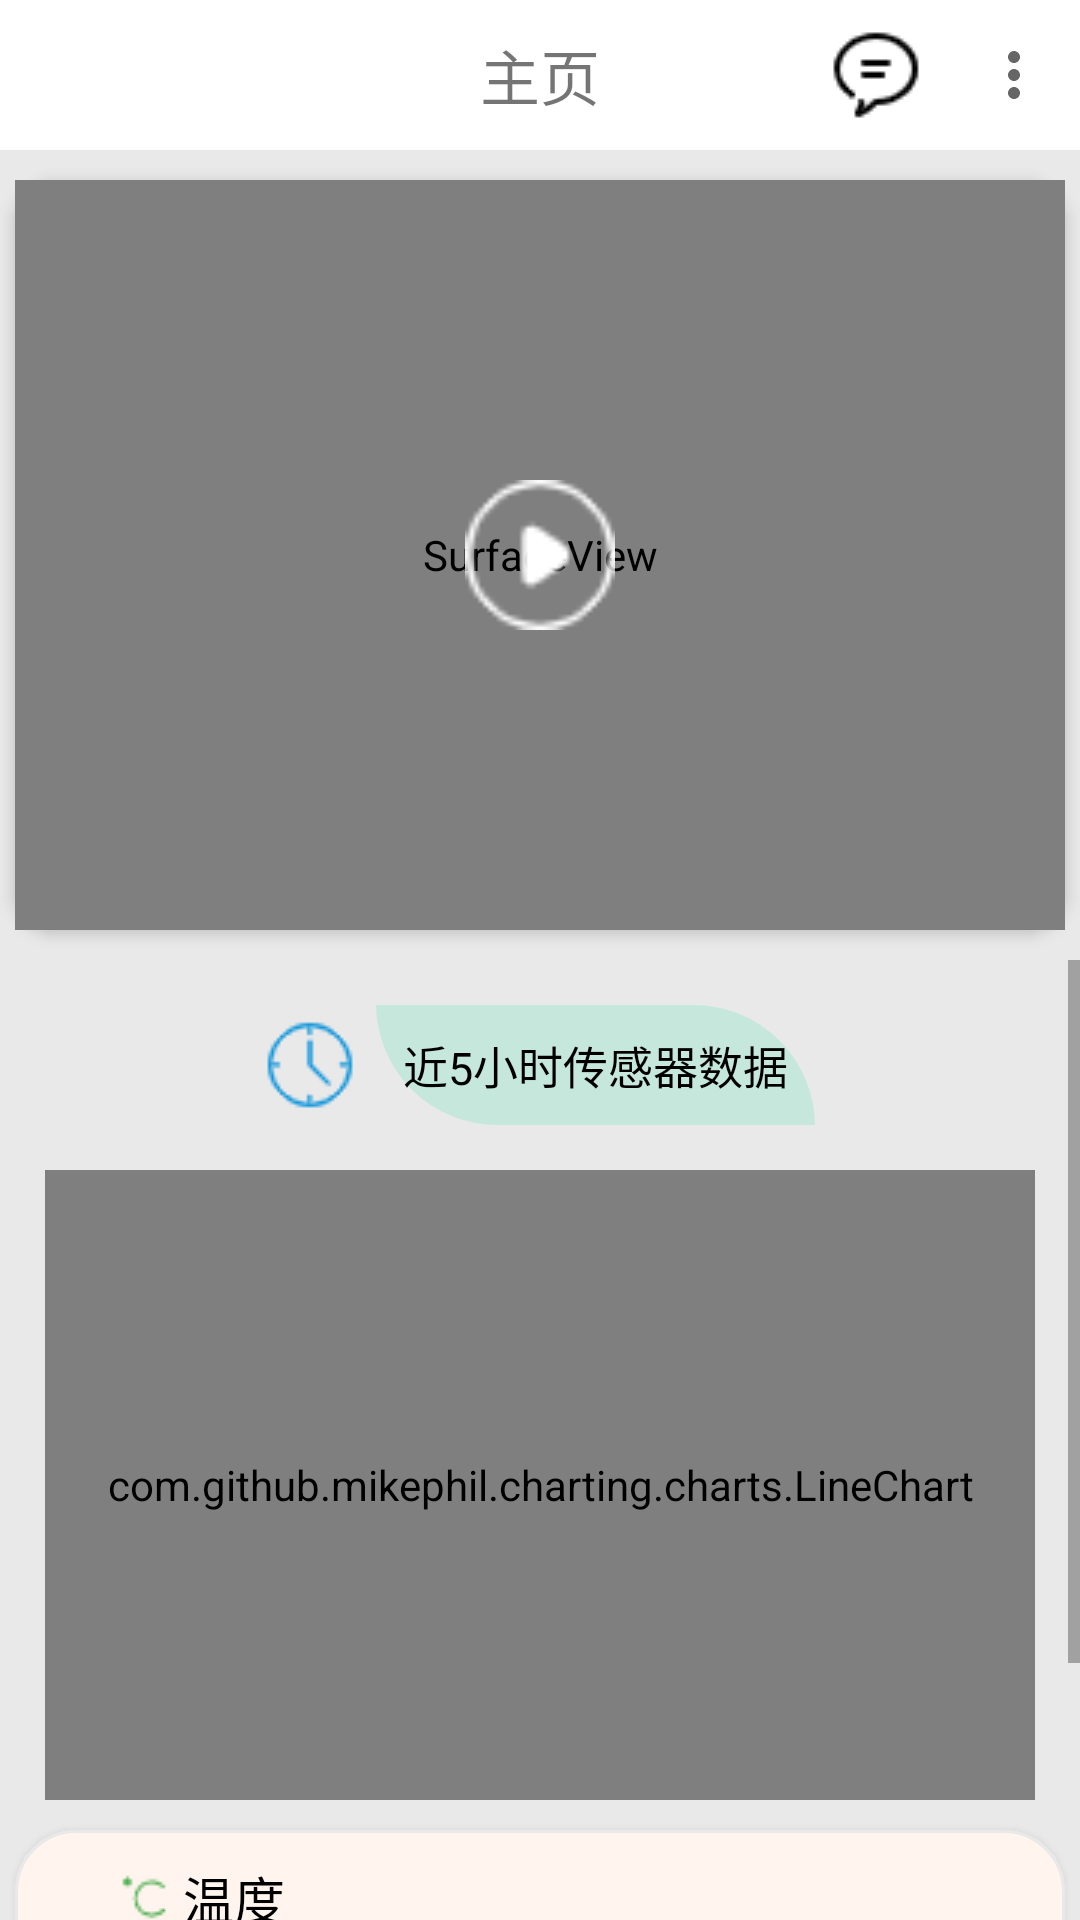

Named icons in this screenshot (1080×1920) and their centers, [x,y]:
time: [310,1065]
video play: [540,555]
